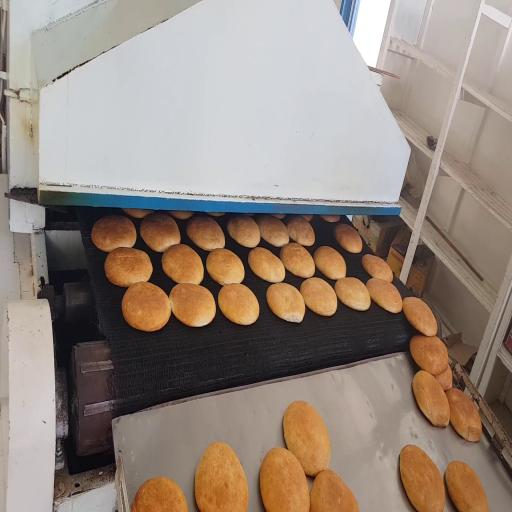bread: (195, 442, 248, 511), (283, 401, 330, 476), (260, 448, 309, 511), (400, 445, 445, 511), (122, 282, 171, 331), (412, 370, 450, 426), (446, 461, 488, 511), (310, 470, 359, 511), (170, 283, 215, 327), (131, 477, 188, 511), (446, 388, 482, 441), (104, 248, 152, 287), (218, 284, 259, 325), (162, 244, 203, 284), (91, 216, 136, 252), (140, 213, 180, 252), (410, 335, 448, 375), (267, 283, 305, 322), (300, 277, 337, 316), (206, 249, 244, 285), (248, 247, 285, 283), (187, 216, 225, 251), (403, 297, 437, 336), (366, 278, 402, 313), (280, 243, 315, 278), (335, 277, 370, 310), (314, 246, 346, 280), (256, 215, 289, 247), (227, 216, 260, 247), (286, 216, 315, 246), (362, 254, 393, 282), (334, 224, 362, 253), (435, 366, 452, 391), (123, 209, 154, 219), (170, 211, 193, 219), (321, 215, 340, 223), (271, 214, 285, 219), (208, 213, 225, 217), (302, 215, 313, 221)
